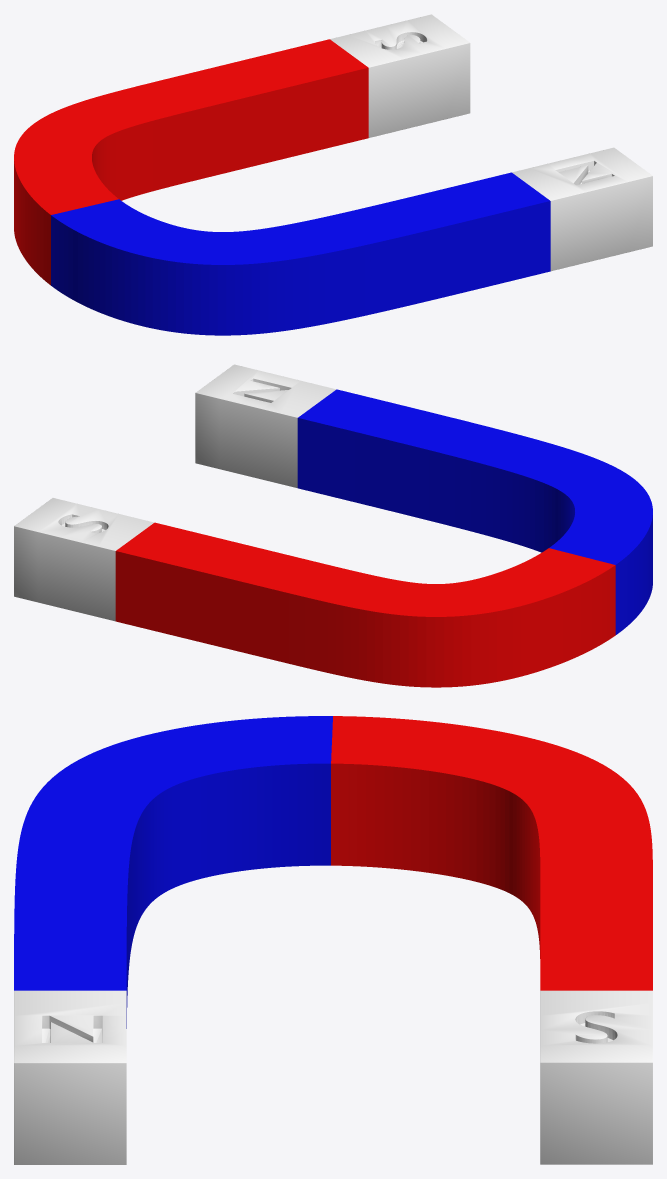
Rendered from magnet.glb.
3 renders of one model, top to bottom at view 1: azimuth 30°, elevation 25°; view 2: azimuth 150°, elevation 25°; view 3: azimuth 270°, elevation 25°, orthographic. The views are drawn at different scales.
Parts seen in each view (by area): view 1: Object_3, Object_4, Object_2; view 2: Object_4, Object_3, Object_2; view 3: Object_4, Object_3, Object_2.
Part boxes in pixels (x1=…): Object_3: x1=51, y1=172, x2=550, y2=335; Object_4: x1=14, y1=39, x2=368, y2=285; Object_2: x1=330, y1=14, x2=652, y2=271; Object_4: x1=115, y1=522, x2=615, y2=687; Object_3: x1=297, y1=389, x2=652, y2=634; Object_2: x1=14, y1=364, x2=336, y2=621; Object_4: x1=331, y1=716, x2=652, y2=990; Object_3: x1=14, y1=716, x2=332, y2=1028; Object_2: x1=14, y1=990, x2=652, y2=1164.
Bounding box in the file's own units: 4.76 × 0.6526 × 3.7.
